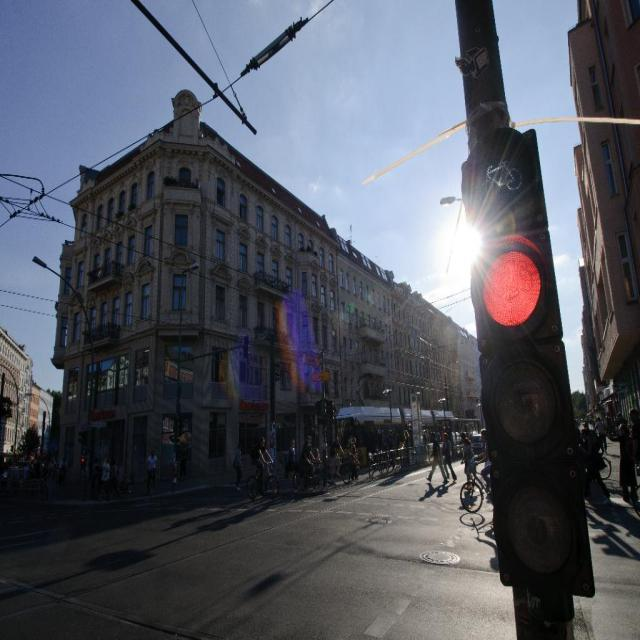traffic light: (460, 136, 580, 485)
